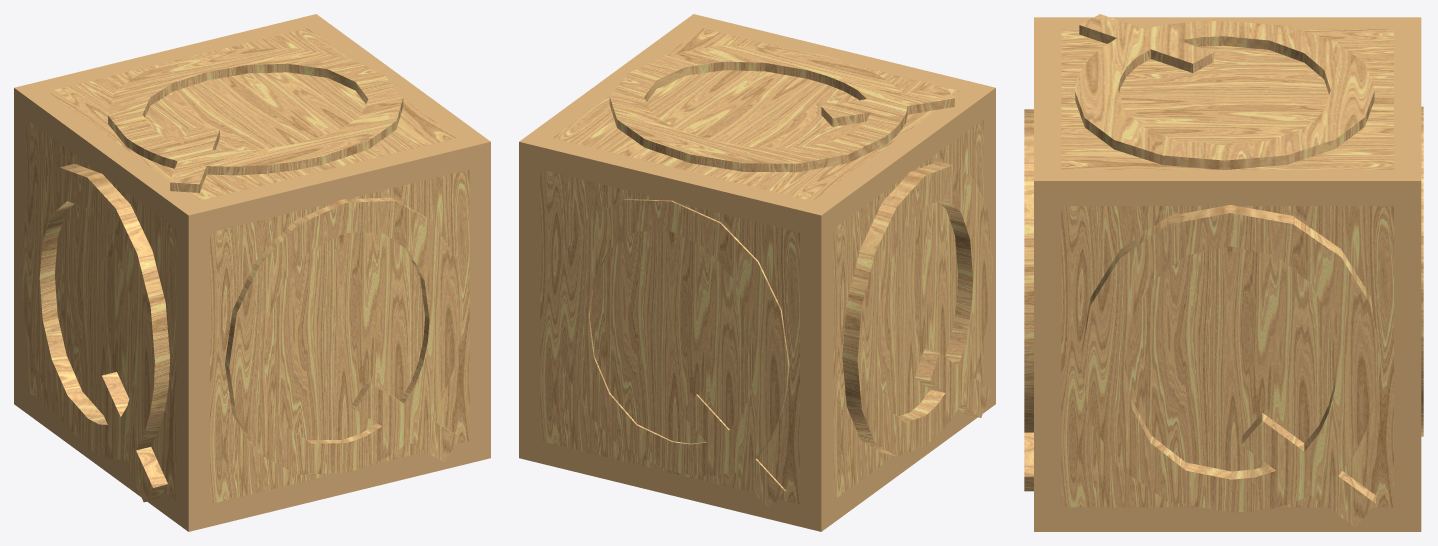
The model's file is Block Q.fbx.
3 renders of one model, left to right at view 1: azimuth 30°, elevation 25°; view 2: azimuth 150°, elevation 25°; view 3: azimuth 270°, elevation 25°, orthographic. The views are drawn at different scales.
Visible parts, largest first — view 1: Box, FRONT, LEFT, TOP; view 2: Box, BACK, LEFT, TOP; view 3: Box, RIGHT, TOP, FRONT, BACK.
Part boxes in pixels (x1=…): Box: x1=14, y1=14, x2=490, y2=531; FRONT: x1=225, y1=197, x2=463, y2=474; LEFT: x1=20, y1=163, x2=169, y2=502; TOP: x1=108, y1=48, x2=403, y2=192; Box: x1=519, y1=14, x2=995, y2=531; BACK: x1=554, y1=199, x2=789, y2=508; LEFT: x1=842, y1=161, x2=992, y2=456; TOP: x1=609, y1=46, x2=954, y2=172; Box: x1=1034, y1=17, x2=1421, y2=531; RIGHT: x1=1080, y1=205, x2=1380, y2=527; TOP: x1=1075, y1=14, x2=1374, y2=169; FRONT: x1=1024, y1=109, x2=1033, y2=491; BACK: x1=1421, y1=106, x2=1423, y2=436.
Bounding box in the file's own units: 1.1 × 1.04 × 1.03.
2 materials, 2 textured.
